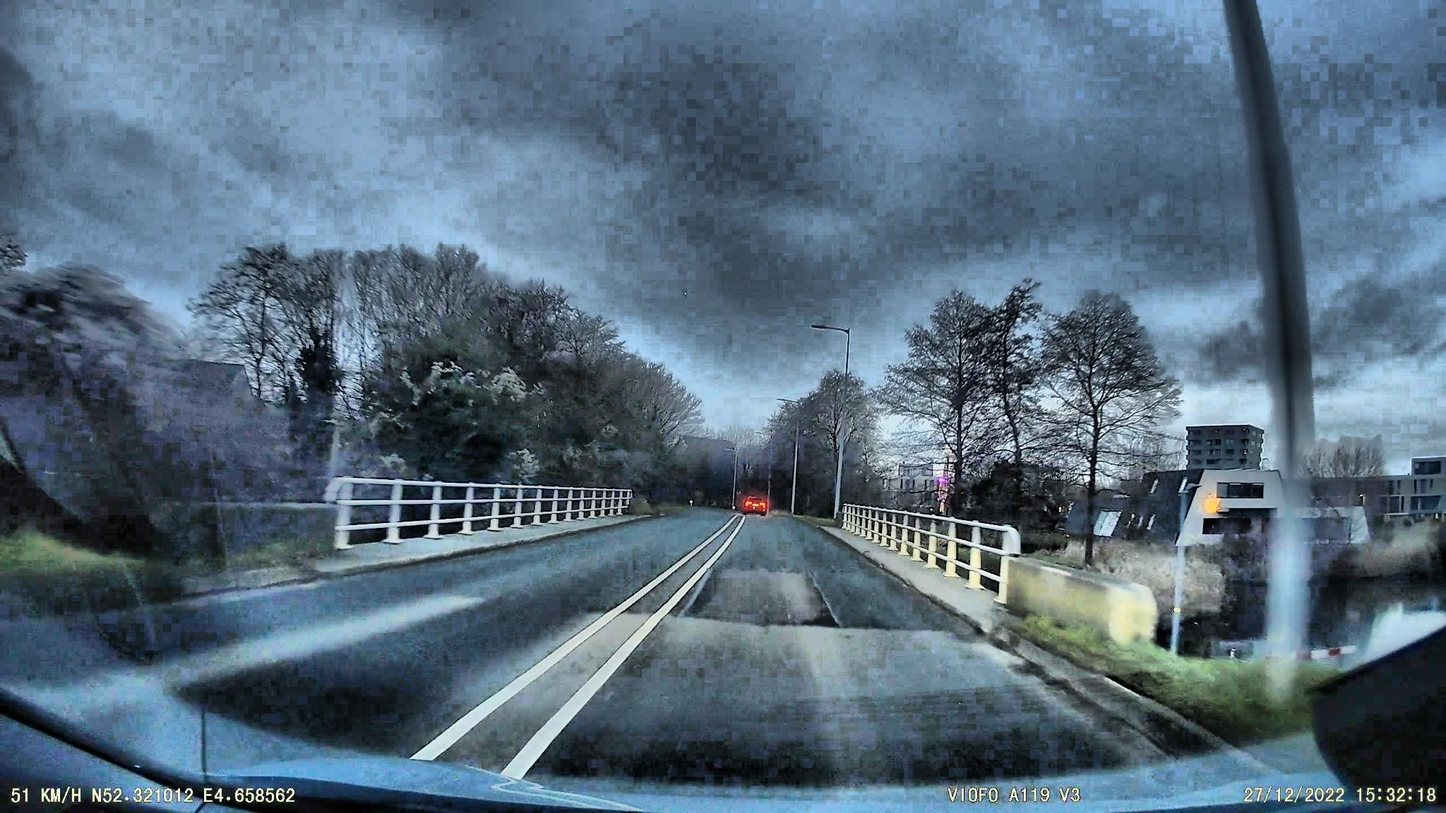Roads: (0, 512, 1346, 813)
